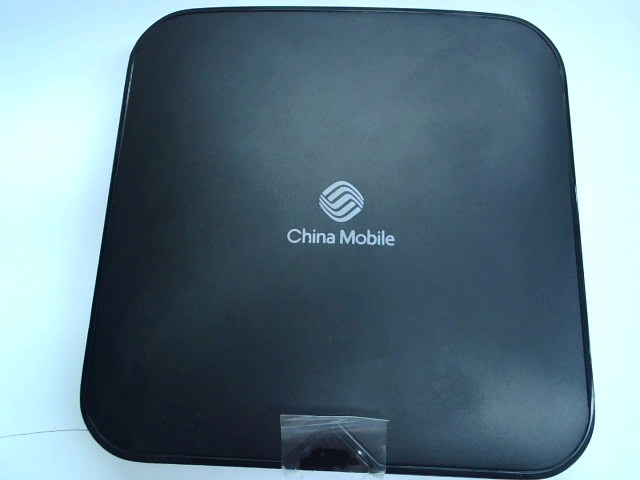ChinaMobile: (274, 175, 400, 253)
